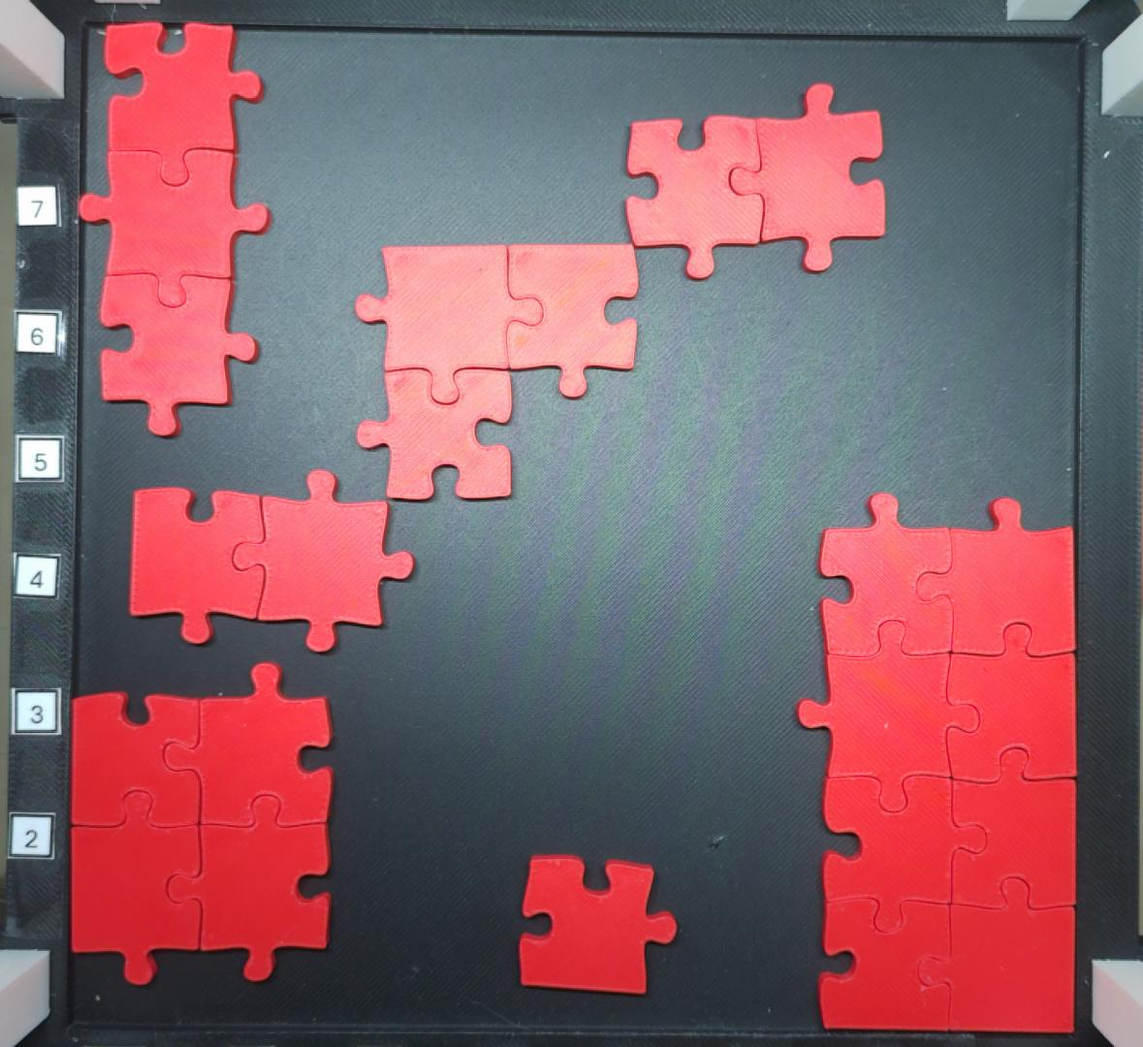p_1: (518, 853, 677, 995)
p_2: (127, 469, 418, 651), (627, 82, 889, 275)
p_3: (79, 23, 272, 435), (356, 244, 639, 500)
p_4: (67, 663, 333, 984)
p_m: (794, 494, 1079, 1036)
